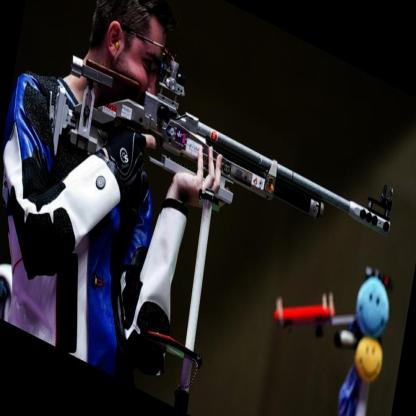rifle: (61, 42, 395, 298)
